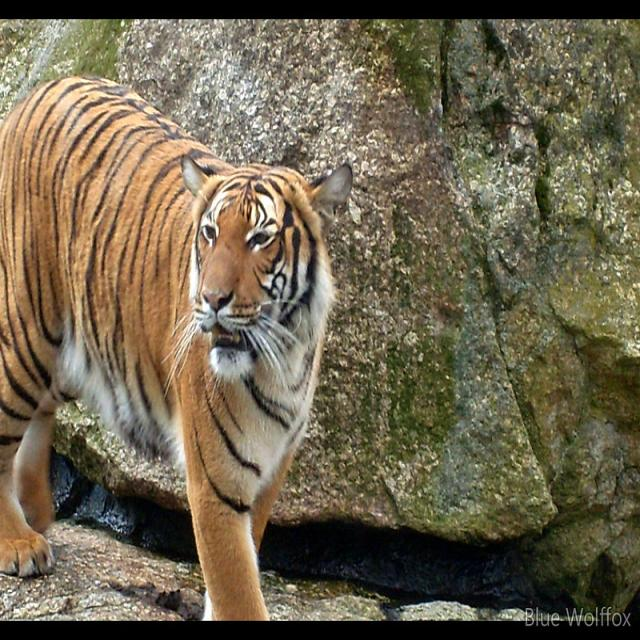Tiger: (0, 72, 353, 620)
